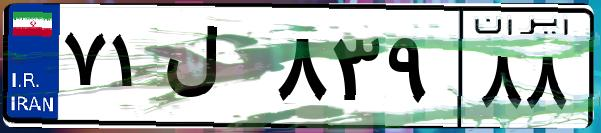1: (110, 28, 158, 98)
3: (330, 28, 385, 110)
7: (57, 26, 110, 100)
8: (270, 28, 330, 110), (475, 38, 525, 113), (525, 38, 570, 115)
9: (385, 28, 445, 110)
ل: (158, 20, 270, 120)
